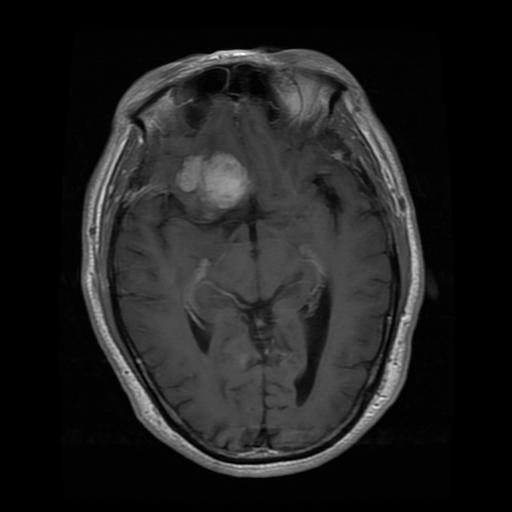Menigiomia_tumour: (175, 152, 250, 207)
